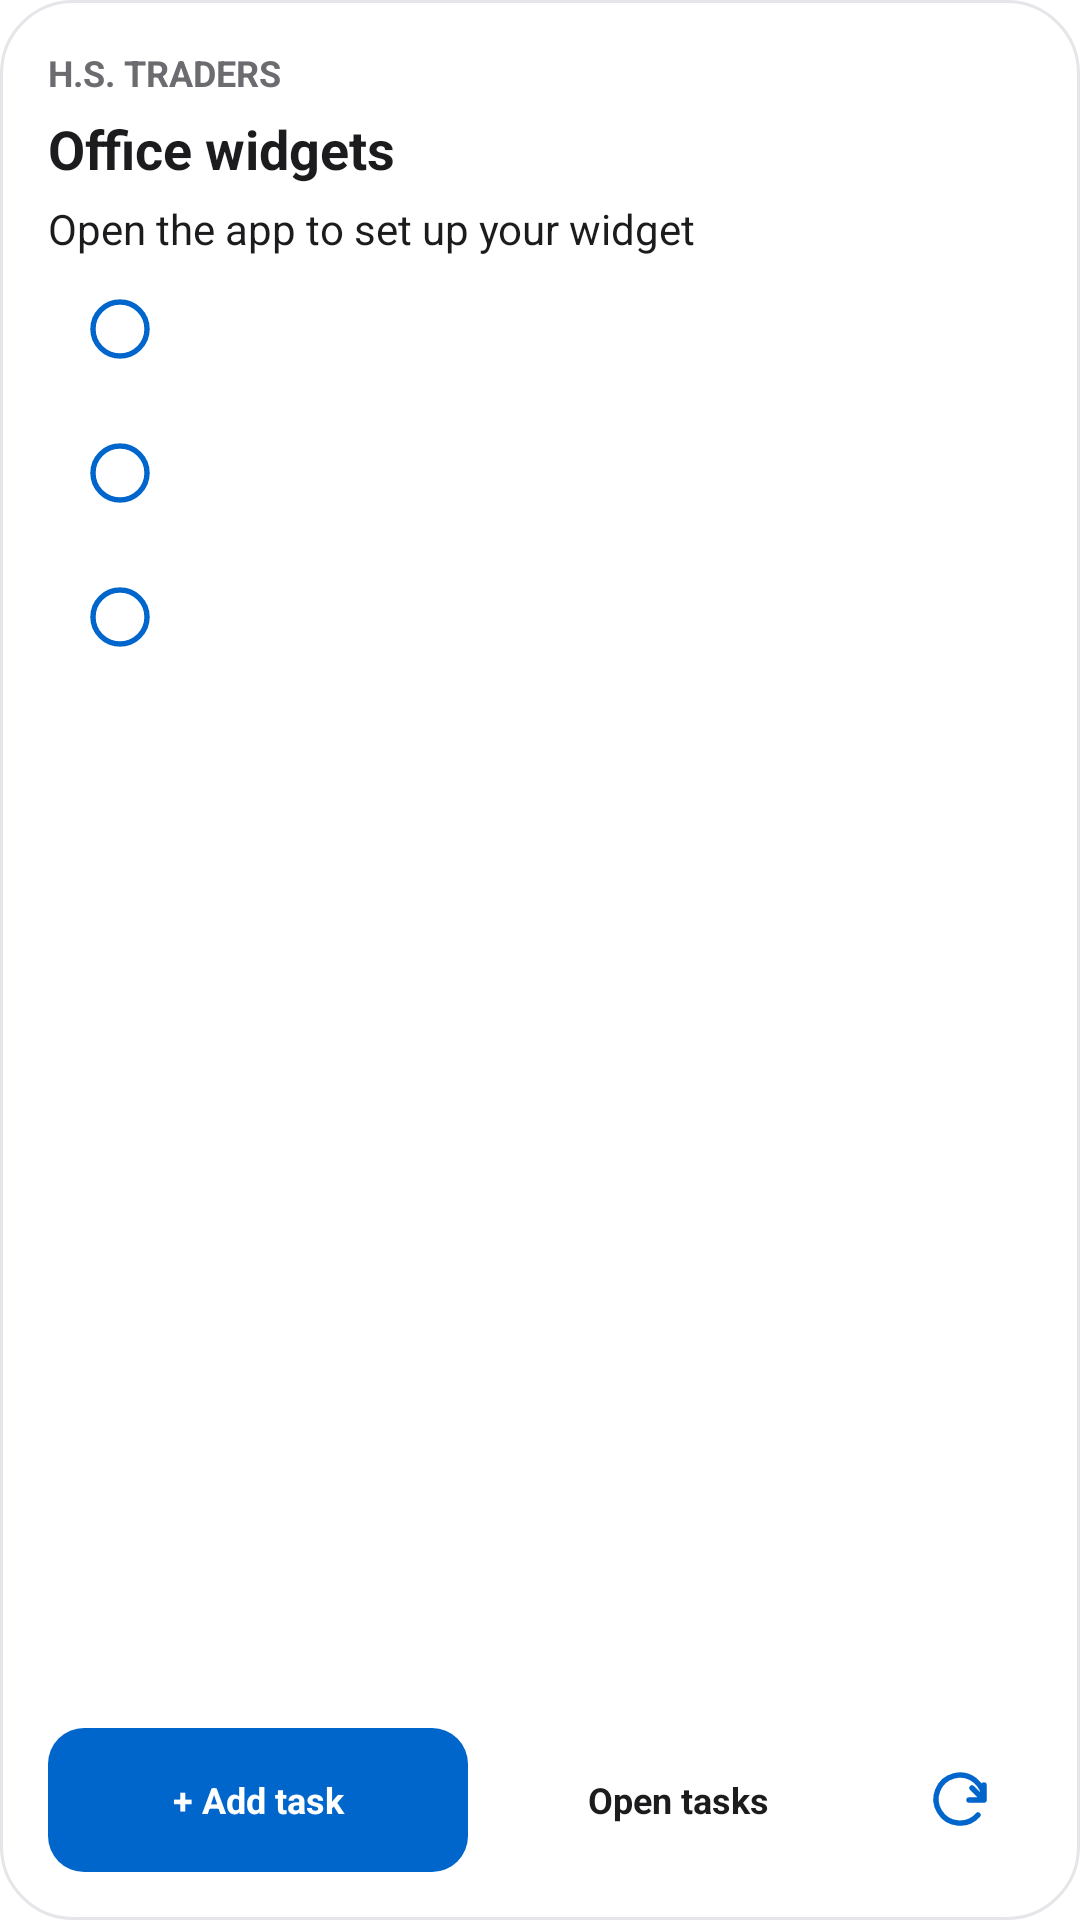

Where icons sit on this 1080px x 1920px app screen, as (x1, y1, x2, y2):
Mark task done: (90, 299, 150, 359), (90, 443, 150, 503), (90, 587, 150, 647)
Refresh tasks: (933, 1772, 987, 1826)
